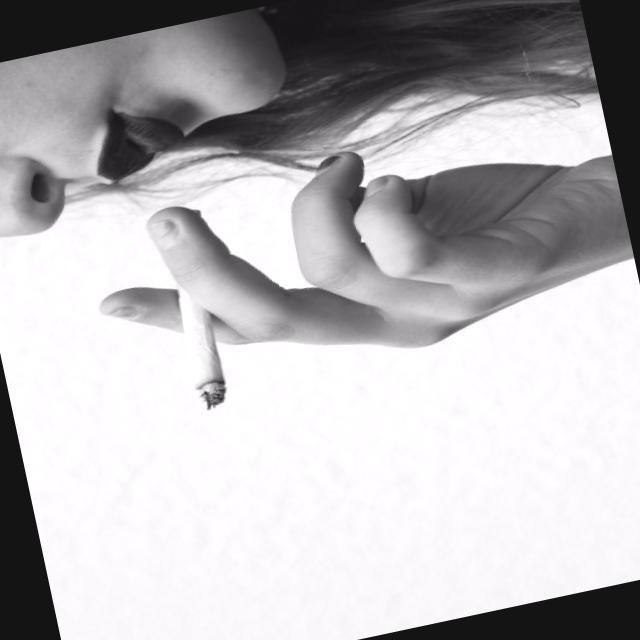cigarette: (156, 276, 244, 424)
